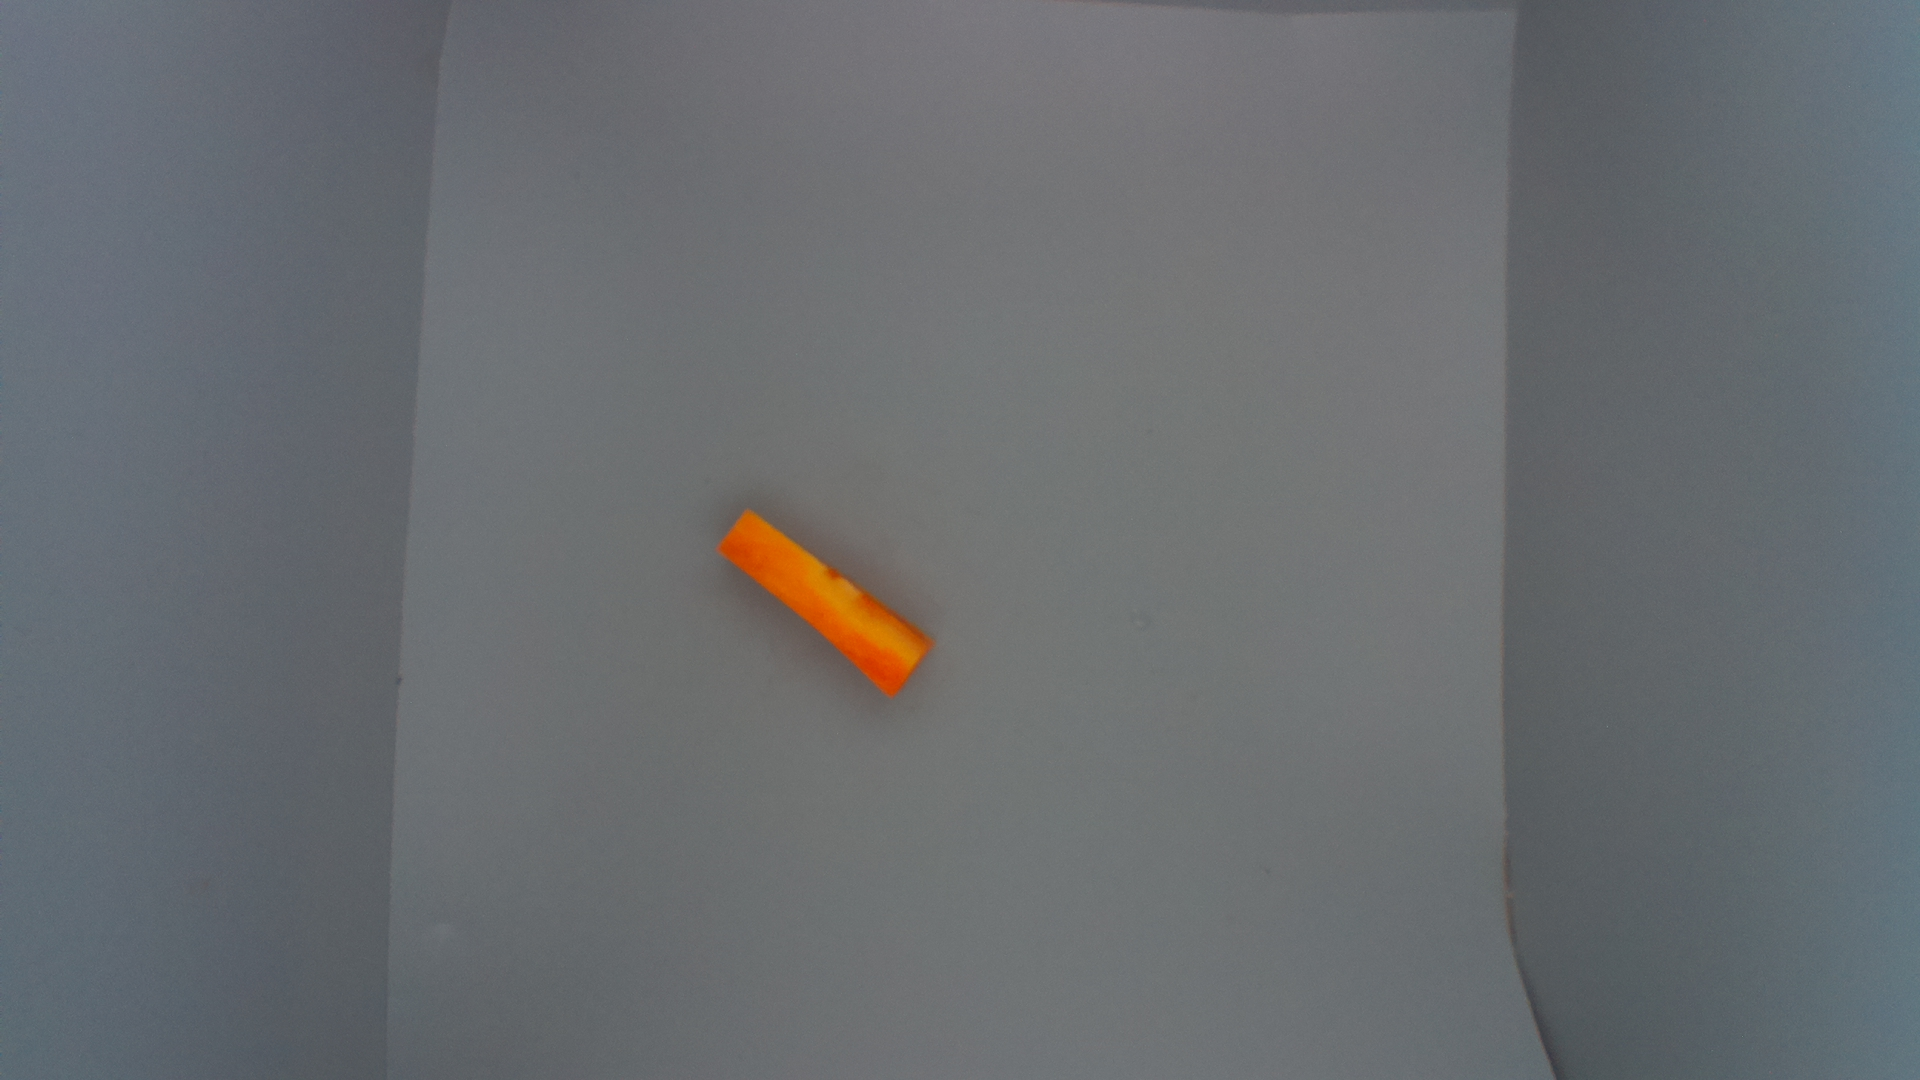carrot: (717, 508, 942, 705)
